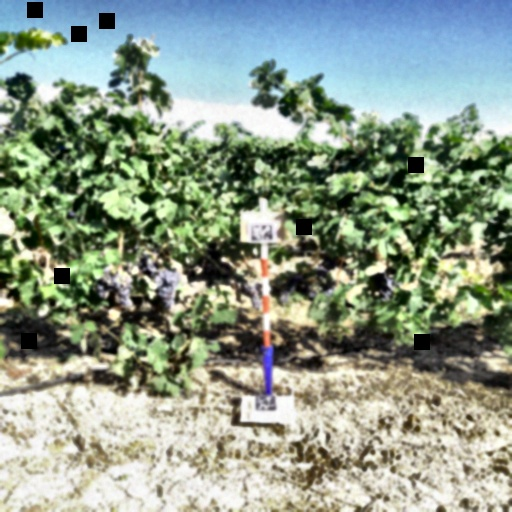QR: (250, 224, 273, 241), (254, 396, 278, 411)
